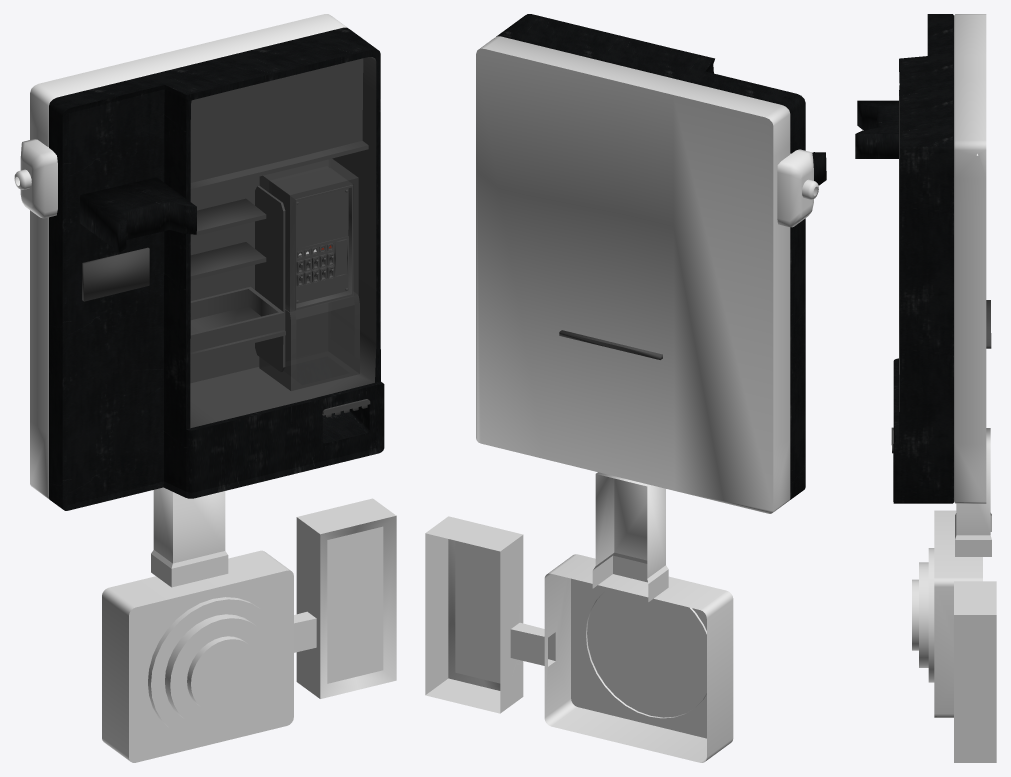
The model's file is phone_booth_moduleFix2.fbx.
The picture shows the model from 3 angles, left to right: view 1: azimuth 30°, elevation 25°; view 2: azimuth 150°, elevation 25°; view 3: azimuth 270°, elevation 25°; orthographic projection. The views are drawn at different scales.
Parts seen in each view (by area): view 1: module; view 2: module; view 3: module.
Part boxes in pixels (left/top/right/bottom): module: left=14, top=14, right=396, bottom=762; module: left=425, top=14, right=826, bottom=762; module: left=855, top=14, right=996, bottom=762.
Size of the model in its own units: 145 by 248 by 52.32.
